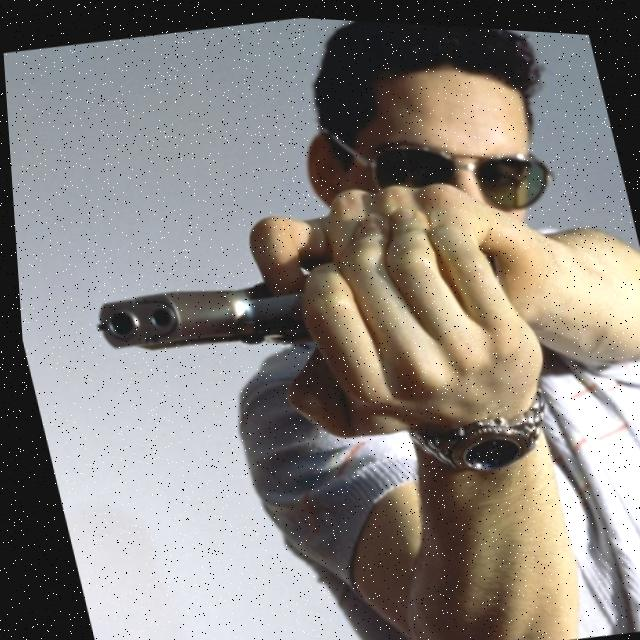pistol: (81, 261, 315, 378)
